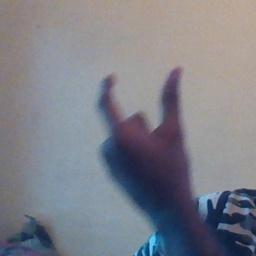U: (91, 61, 194, 201)
